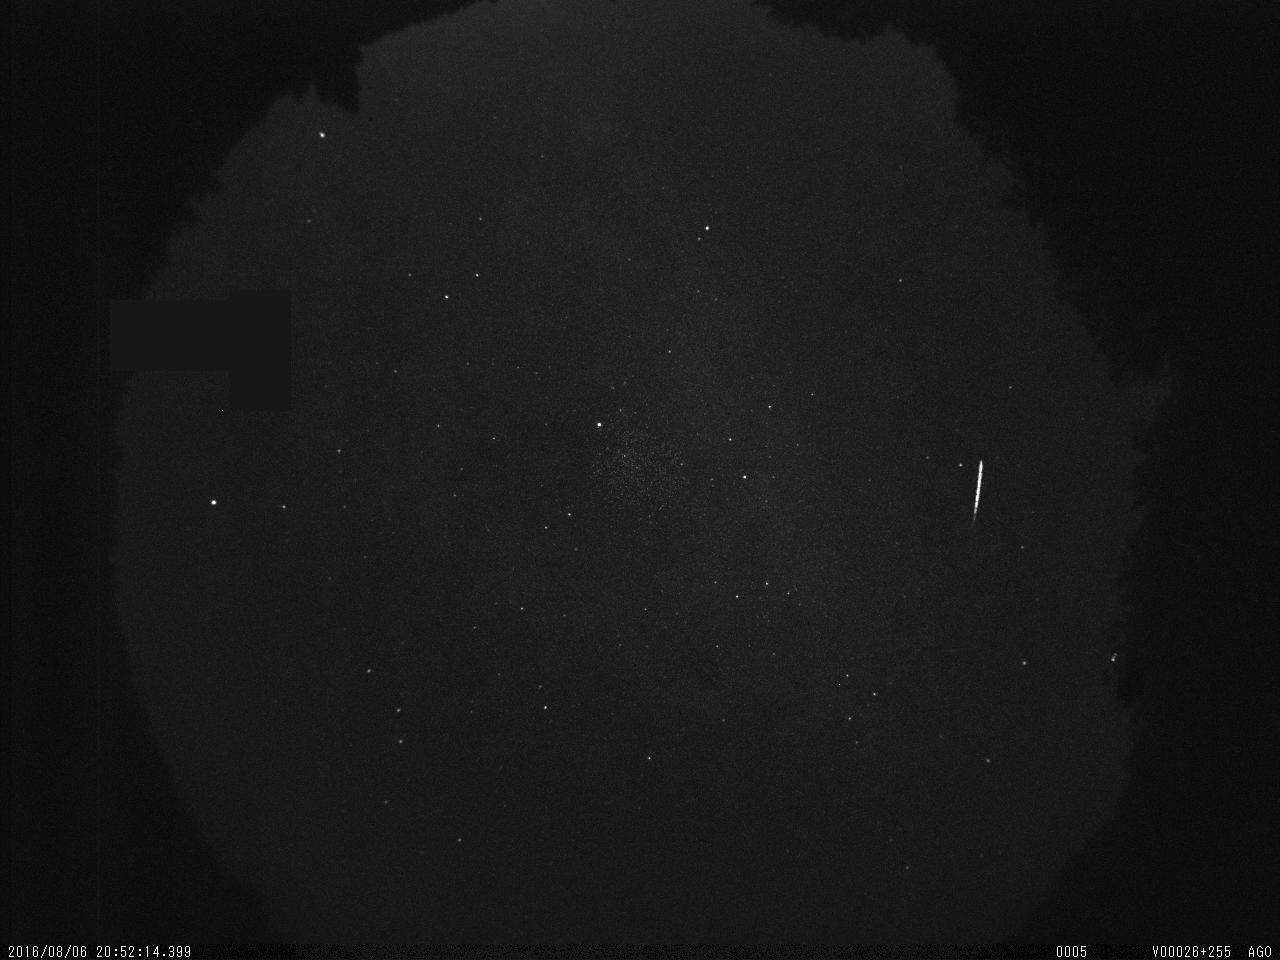Meteor: (968, 453, 993, 521)
